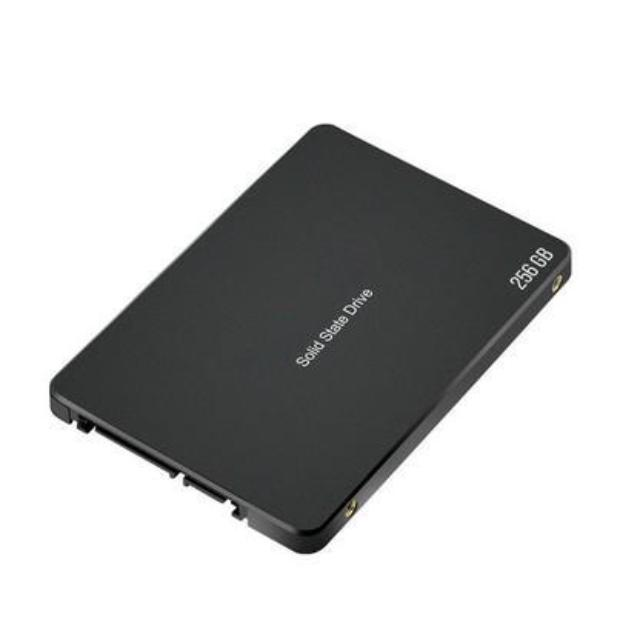DISK: (28, 102, 580, 568)
